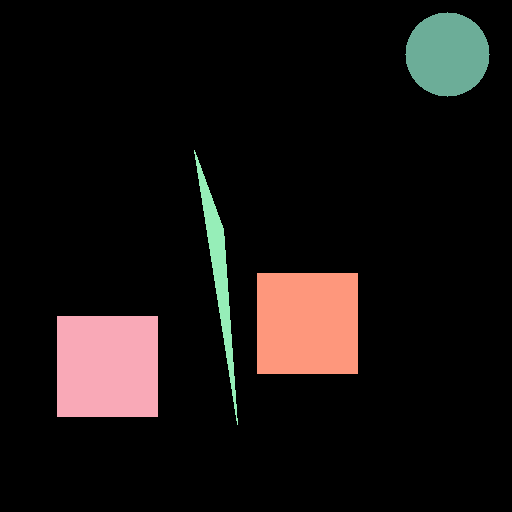circle: (405, 12, 489, 96)
square: (57, 316, 157, 416), (257, 273, 357, 373)
triangle: (194, 150, 237, 424)
